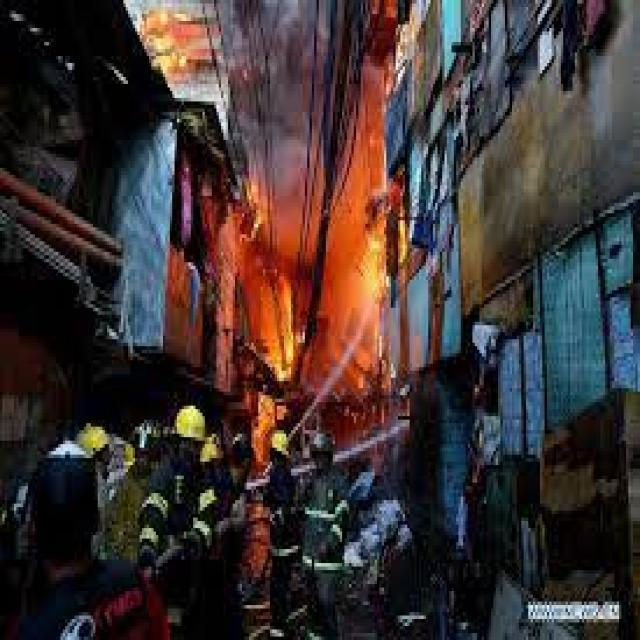Fire: (242, 175, 332, 353), (330, 197, 383, 398)
